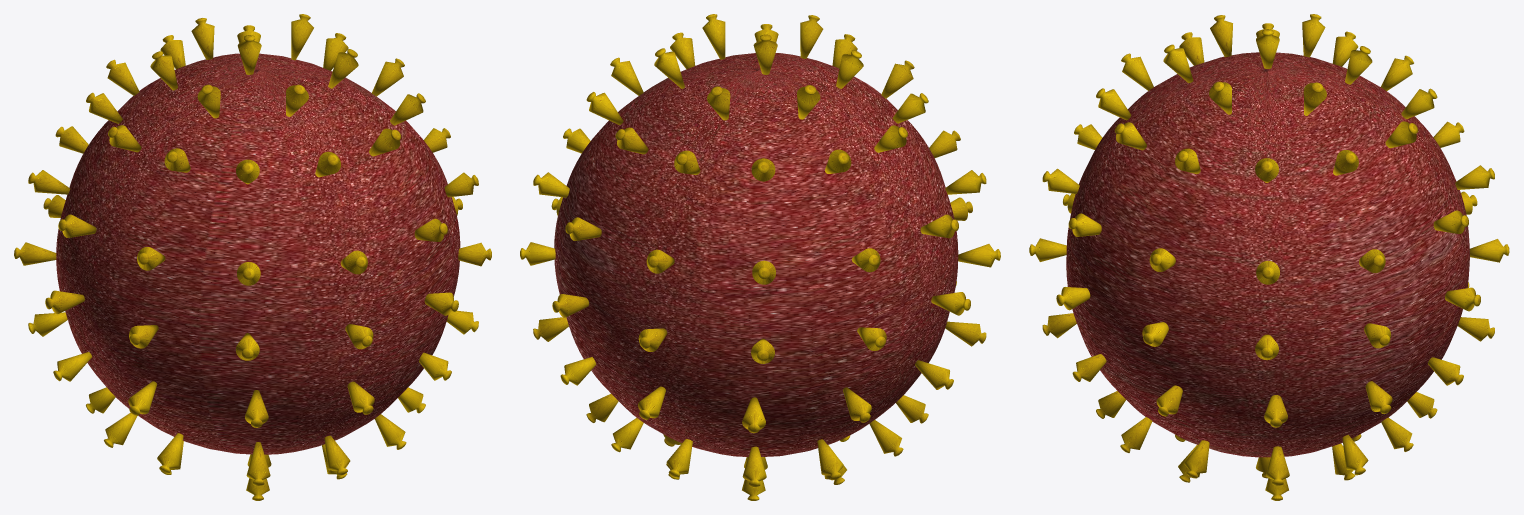
File: cvirus.glb
3 views of the same model, side by side, from view 1: azimuth 30°, elevation 25°; view 2: azimuth 150°, elevation 25°; view 3: azimuth 270°, elevation 25° (orthographic).
Parts seen in each view (by area): view 1: SurfSphere, Cone.079_Cone, Cone.018_Cone, Cone.049_Cone, Cone.052_Cone, Cone.041_Cone, Cone.053_Cone, Cone.001_Cone, Cone.088_Cone, Cone.029_Cone, Cone.048_Cone, Cone.066_Cone (+27 smaller); view 2: SurfSphere, Cone.049_Cone, Cone.007_Cone, Cone.079_Cone, Cone.033_Cone, Cone.018_Cone, Cone.058_Cone, Cone.078_Cone, Cone.028_Cone, Cone.083_Cone, Cone.089_Cone, Cone.029_Cone (+27 smaller); view 3: SurfSphere, Cone.050_Cone, Cone.007_Cone, Cone.033_Cone, Cone.080_Cone, Cone.085_Cone, Cone.066_Cone, Cone.006_Cone, Cone.001_Cone, Cone.071_Cone, Cone.003_Cone, Cone.002_Cone (+26 smaller).
Part boxes in pixels (x1,y1,x2,y2): SurfSphere: (56,53,460,454); Cone.079_Cone: (291,14,313,60); Cone.018_Cone: (372,58,404,96); Cone.049_Cone: (328,49,358,88); Cone.052_Cone: (28,170,70,194); Cone.041_Cone: (246,442,270,485); Cone.053_Cone: (14,242,56,265); Cone.001_Cone: (191,18,214,59); Cone.088_Cone: (157,433,183,473); Cone.029_Cone: (53,352,91,381); Cone.048_Cone: (390,93,425,125); Cone.066_Cone: (106,59,139,95); SurfSphere: (554,53,958,456); Cone.049_Cone: (702,14,725,59); Cone.007_Cone: (800,15,823,58); Cone.079_Cone: (654,48,684,88); Cone.033_Cone: (881,60,914,98); Cone.018_Cone: (610,57,643,95); Cone.058_Cone: (817,439,843,480); Cone.078_Cone: (586,92,623,125); Cone.028_Cone: (869,420,903,456); Cone.083_Cone: (958,244,1000,267); Cone.089_Cone: (945,321,986,346); Cone.029_Cone: (915,360,953,389); SurfSphere: (1066,52,1469,457); Cone.050_Cone: (1302,14,1325,57); Cone.007_Cone: (1163,44,1193,82); Cone.033_Cone: (1121,53,1153,90); Cone.080_Cone: (1210,15,1232,57); Cone.085_Cone: (1342,434,1368,475); Cone.066_Cone: (1381,55,1413,90); Cone.006_Cone: (1096,88,1131,120); Cone.001_Cone: (1345,46,1372,84); Cone.071_Cone: (1120,417,1152,452); Cone.003_Cone: (1455,165,1494,189); Cone.002_Cone: (1401,88,1437,119).
Bounding box in the file's own units: 2.37 × 2.41 × 2.37.
2 materials, 2 textured.
